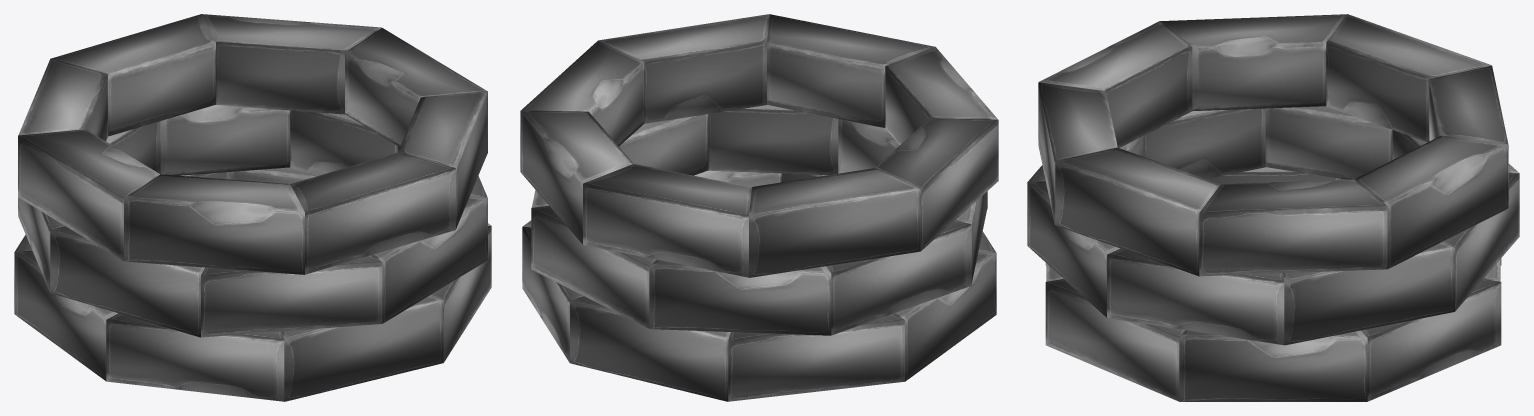
Rendered from brick_ring.fbx.
The picture shows the model from 3 angles, left to right: view 1: azimuth 30°, elevation 25°; view 2: azimuth 150°, elevation 25°; view 3: azimuth 270°, elevation 25°; orthographic projection. The views are drawn at different scales.
Parts seen in each view (by area): view 1: brick_ring; view 2: brick_ring; view 3: brick_ring.
Boxes of the visible parts, bbox=[...] form: brick_ring: bbox=[14, 14, 491, 401]; brick_ring: bbox=[520, 14, 998, 401]; brick_ring: bbox=[1027, 14, 1519, 401].
Size of the model in its own units: 2.42 by 1.04 by 2.42.
